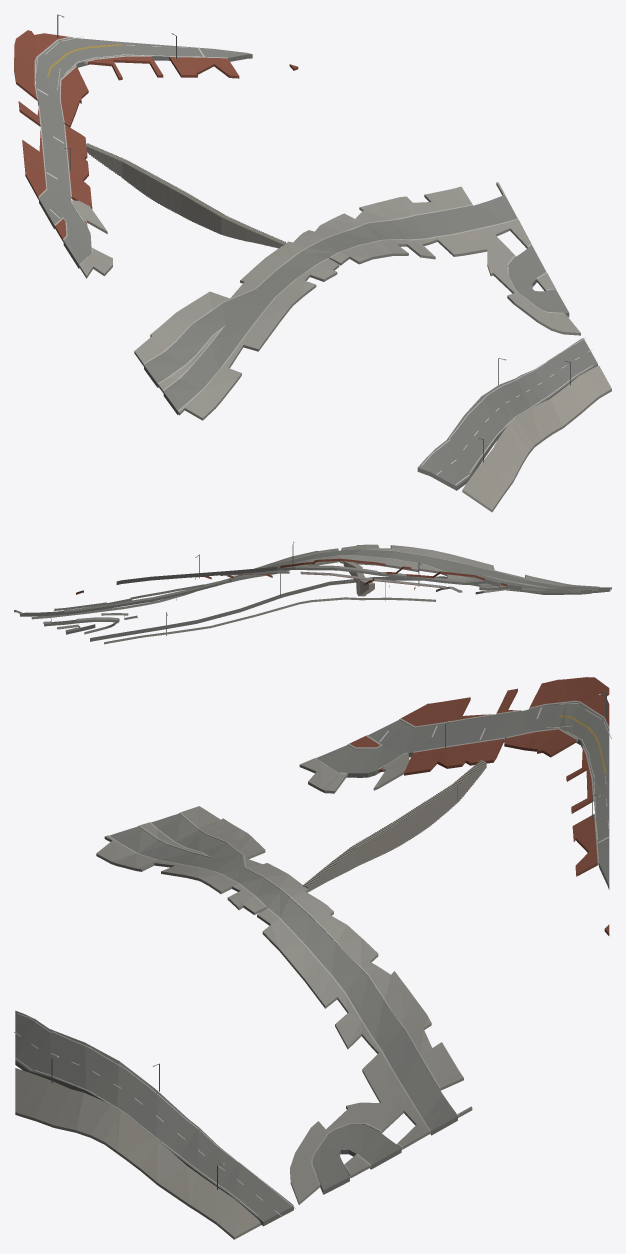
3 renders of one model, top to bottom at view 1: azimuth 30°, elevation 25°; view 2: azimuth 150°, elevation 25°; view 3: azimuth 270°, elevation 25°, orthographic. The views are drawn at different scales.
Size of the model in its own units: 148 by 96.01 by 147.
